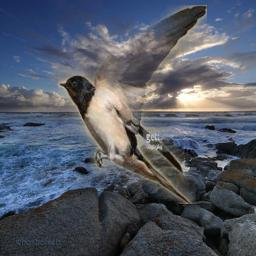Swallow: (58, 5, 207, 204)
